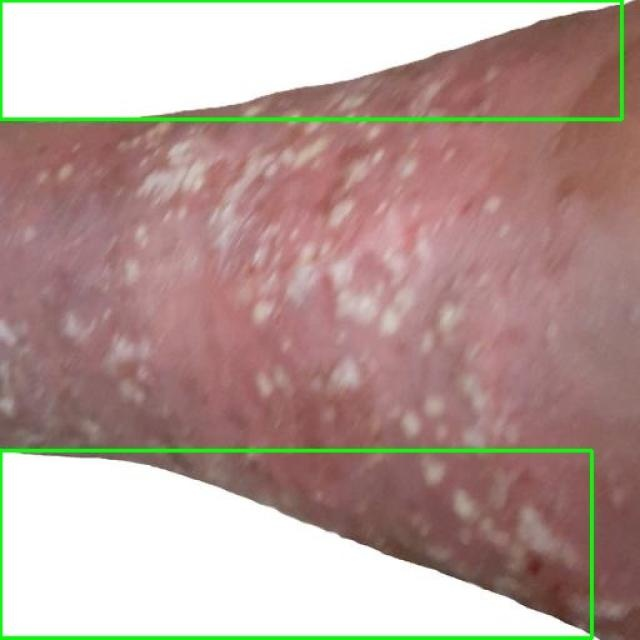Eczema: (0, 451, 592, 639), (0, 0, 621, 119)
